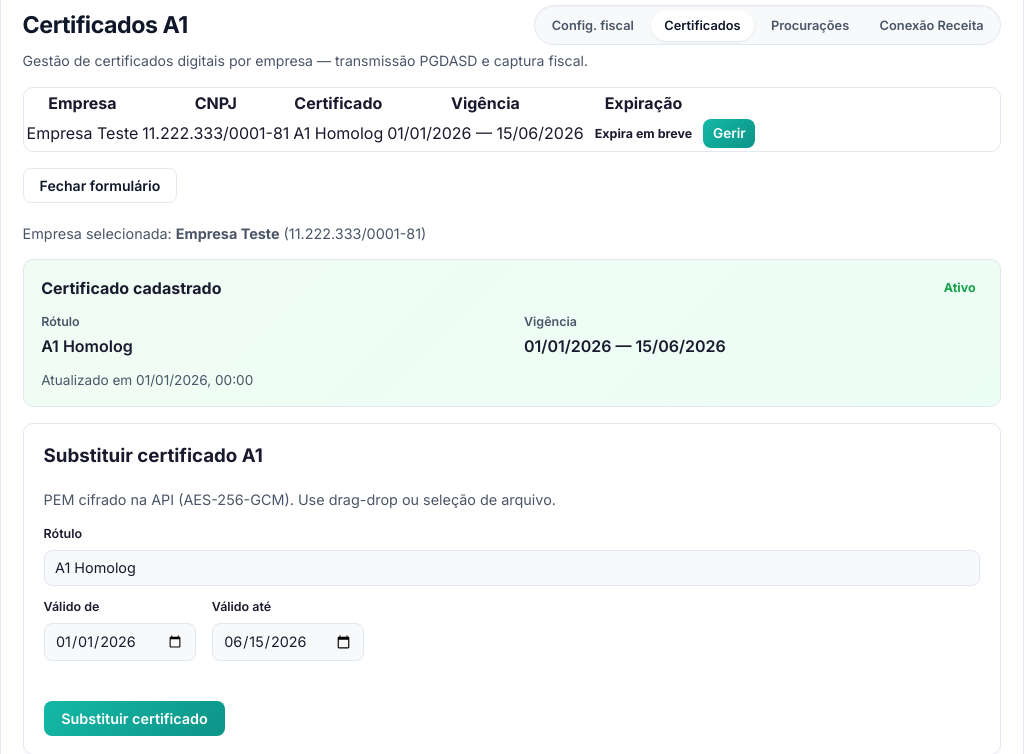
FiscalCertificadosPage (EXEQ-FISC-075) › substitui certificado, exibe sucesso e desabilita o botão
The image size is (1024, 754).
Click the button with test id "fiscal-cert-submit-btn" at [134, 718], box [44,701,225,736]
(page scrolled)
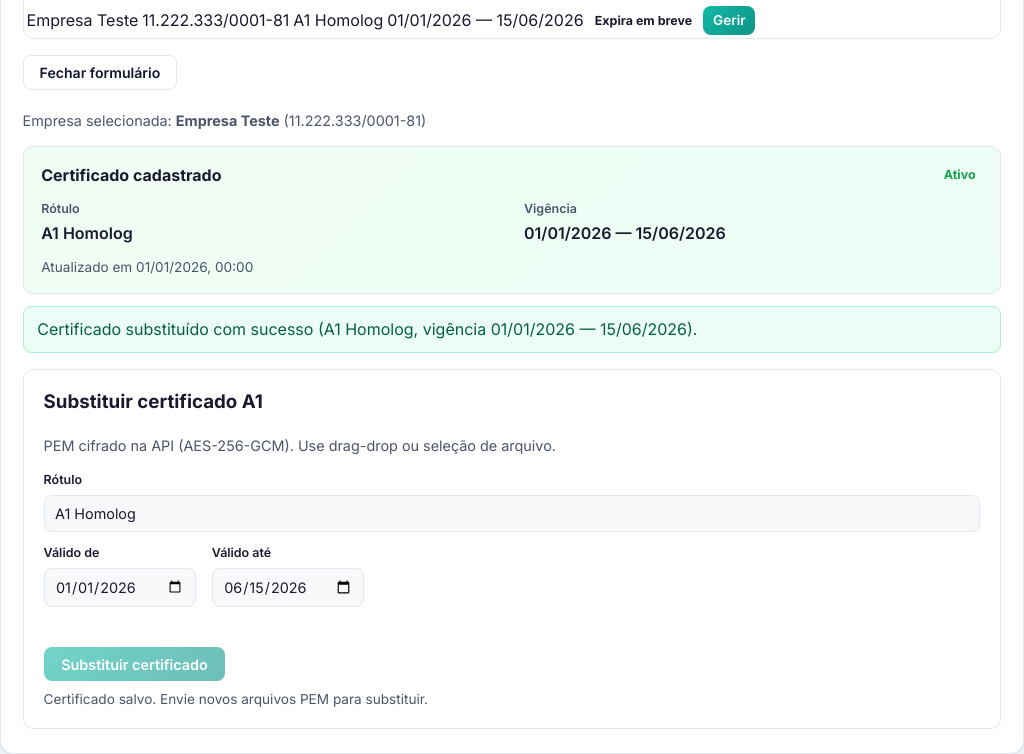
expect the message with test id "fiscal-cert-save-msg" shows "substituído com sucesso": met, box [37,320,698,340]
expect the button with test id "fiscal-cert-submit-btn" is disabled: met, box [44,647,225,682]
